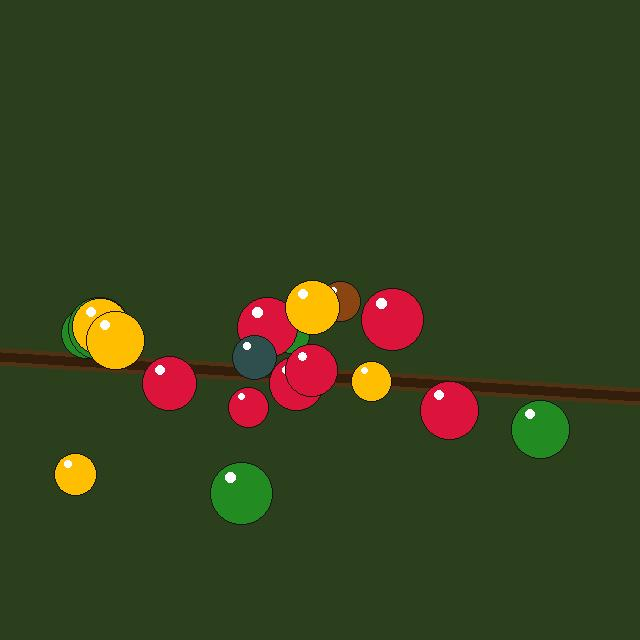Dry_Damaged: (232, 335, 276, 379)
Overripe: (320, 281, 360, 321)
Ripe: (361, 288, 423, 350), (237, 297, 297, 357), (420, 381, 478, 439), (142, 356, 196, 410), (269, 356, 323, 410), (285, 344, 337, 396), (228, 387, 268, 427)
Ripening: (86, 311, 144, 369), (72, 298, 128, 354), (285, 280, 339, 334), (54, 453, 96, 495), (351, 361, 391, 401)
Unripe: (210, 462, 272, 524), (68, 297, 130, 359), (511, 400, 569, 458), (61, 308, 111, 358), (273, 317, 309, 353)
